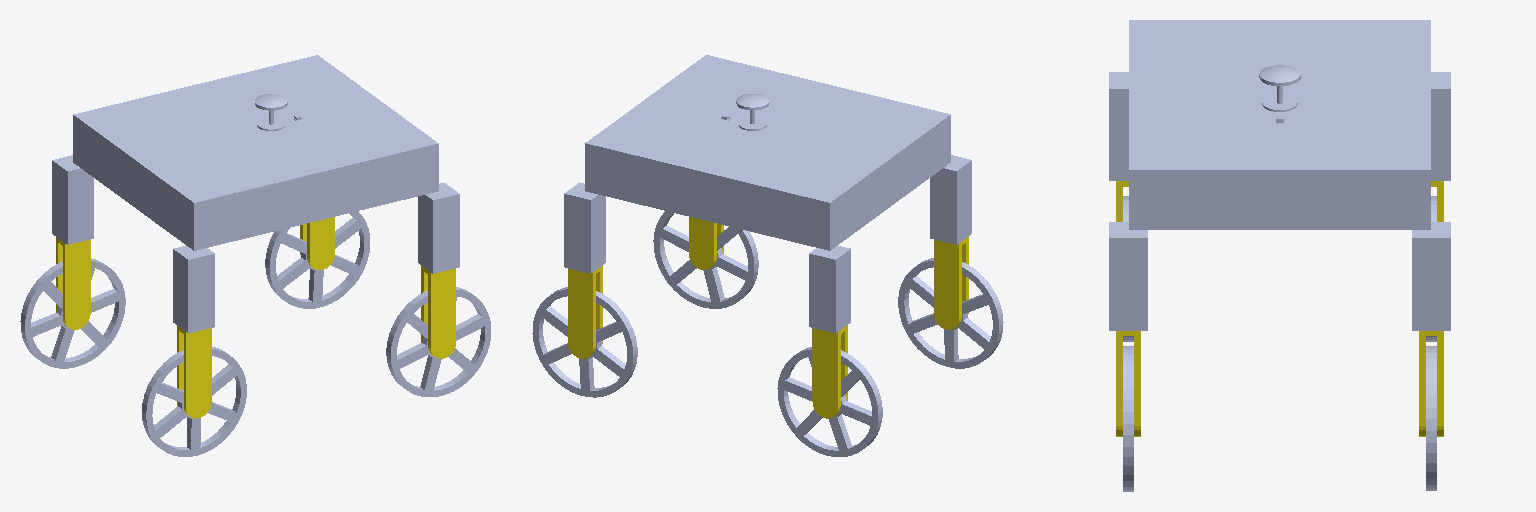
The robot description file, URDF, robot "4ws_car":
<?xml version="1.0" encoding="utf-8"?>
<!-- This URDF was automatically created by SolidWorks to URDF Exporter! Originally created by [author] ([email redacted]) 
     Commit Version: 1.5.1-0-g916b5db  Build Version: 1.5.7152.31018
     For more information, please see http://wiki.ros.org/sw_urdf_exporter -->
<robot
  name="4ws_car">
  <link
    name="base_link">
    <inertial>
      <origin
        xyz="0 -1.14491749414469E-16 1.39011762435083"
        rpy="0 0 0" />
      <mass
        value="713.808628330588" />
      <inertia
        ixx="142.749183568638"
        ixy="-2.3435707584632E-14"
        ixz="9.18848514806818E-16"
        iyy="189.782092071795"
        iyz="4.07823401388039E-15"
        izz="305.777739647351" />
    </inertial>
    <visual>
      <origin
        xyz="0 0 0"
        rpy="0 0 0" />
      <geometry>
        <mesh
          filename="package://4ws_car/meshes/base_link.STL" />
      </geometry>
      <material
        name="">
        <color
          rgba="0.792156862745098 0.819607843137255 0.933333333333333 1" />
      </material>
    </visual>
    <collision>
      <origin
        xyz="0 0 0"
        rpy="0 0 0" />
      <geometry>
        <mesh
          filename="package://4ws_car/meshes/base_link.STL" />
      </geometry>
    </collision>
  </link>
  <link
    name="Servo1_Link">
    <inertial>
      <origin
        xyz="-9.4226089708549E-08 -7.7289110667067E-09 -0.261240451567178"
        rpy="0 0 0" />
      <mass
        value="5.76104203269671" />
      <inertia
        ixx="0.165423317373878"
        ixy="-0.000290653748056503"
        ixz="2.05751618583053E-08"
        iyy="0.168942946694181"
        iyz="1.6876811328859E-09"
        izz="0.0219170046809726" />
    </inertial>
    <visual>
      <origin
        xyz="0 0 0"
        rpy="0 0 0" />
      <geometry>
        <mesh
          filename="package://4ws_car/meshes/Servo1_Link.STL" />
      </geometry>
      <material
        name="">
        <color
          rgba="1 0.937254901960784 0.137254901960784 1" />
      </material>
    </visual>
    <collision>
      <origin
        xyz="0 0 0"
        rpy="0 0 0" />
      <geometry>
        <mesh
          filename="package://4ws_car/meshes/Servo1_Link.STL" />
      </geometry>
    </collision>
  </link>
  <joint
    name="Servo1_Joint"
    type="revolute">
    <origin
      xyz="-0.8 -0.685 0.81"
      rpy="0 0 0" />
    <parent
      link="base_link" />
    <child
      link="Servo1_Link" />
    <axis
      xyz="0 0 1" />
    <limit
      lower="-1.57"
      upper="1.57"
      effort="0"
      velocity="0" />
  </joint>
  <link
    name="Wheel1_Link">
    <inertial>
      <origin
        xyz="-0.00204376541036855 0.0249163204134835 3.33066907387547E-16"
        rpy="0 0 0" />
      <mass
        value="8.92241380394137" />
      <inertia
        ixx="0.268708994377447"
        ixy="-0.0214473570079771"
        ixz="9.39147780268202E-17"
        iyy="0.528422647041607"
        iyz="-1.07533479631894E-17"
        izz="0.266949771279124" />
    </inertial>
    <visual>
      <origin
        xyz="0 0 0"
        rpy="0 0 0" />
      <geometry>
        <mesh
          filename="package://4ws_car/meshes/Wheel1_Link.STL" />
      </geometry>
      <material
        name="">
        <color
          rgba="0.792156862745098 0.819607843137255 0.933333333333333 1" />
      </material>
    </visual>
    <collision>
      <origin
        xyz="0 0 0"
        rpy="0 0 0" />
      <geometry>
        <mesh
          filename="package://4ws_car/meshes/Wheel1_Link.STL" />
      </geometry>
    </collision>
  </link>
  <joint
    name="Wheel1_Joint"
    type="continuous">
    <origin
      xyz="0.0020437 -0.024916 -0.48"
      rpy="0 0 0" />
    <parent
      link="Servo1_Link" />
    <child
      link="Wheel1_Link" />
    <axis
      xyz="0.081751 -0.99665 0" />
    <limit
      lower="-1.57"
      upper="1.57"
      effort="0"
      velocity="0" />
  </joint>
  <link
    name="Servo2_Link">
    <inertial>
      <origin
        xyz="-9.44418971915439E-08 -4.36120239921678E-09 -0.261240451567178"
        rpy="0 0 0" />
      <mass
        value="5.76104203269672" />
      <inertia
        ixx="0.16540706745021"
        ixy="-0.00016438319087837"
        ixz="2.06222855137653E-08"
        iyy="0.16895919661785"
        iyz="9.52309988531046E-10"
        izz="0.0219170046809726" />
    </inertial>
    <visual>
      <origin
        xyz="0 0 0"
        rpy="0 0 0" />
      <geometry>
        <mesh
          filename="package://4ws_car/meshes/Servo2_Link.STL" />
      </geometry>
      <material
        name="">
        <color
          rgba="1 0.937254901960784 0.137254901960784 1" />
      </material>
    </visual>
    <collision>
      <origin
        xyz="0 0 0"
        rpy="0 0 0" />
      <geometry>
        <mesh
          filename="package://4ws_car/meshes/Servo2_Link.STL" />
      </geometry>
    </collision>
  </link>
  <joint
    name="Servo2_Joint"
    type="revolute">
    <origin
      xyz="0.8 -0.685 0.81"
      rpy="0 0 0" />
    <parent
      link="base_link" />
    <child
      link="Servo2_Link" />
    <axis
      xyz="0 0 1" />
    <limit
      lower="-1.57"
      upper="1.57"
      effort="0"
      velocity="0" />
  </joint>
  <link
    name="Wheel2_Link">
    <inertial>
      <origin
        xyz="-0.00115323811859469 0.0249733866714513 0"
        rpy="0 0 0" />
      <mass
        value="8.92241380394136" />
      <inertia
        ixx="0.267509911562919"
        ixy="-0.0121298452349342"
        ixz="2.15366809792555E-15"
        iyy="0.529621729856135"
        iyz="1.00201959716932E-16"
        izz="0.266949771279123" />
    </inertial>
    <visual>
      <origin
        xyz="0 0 0"
        rpy="0 0 0" />
      <geometry>
        <mesh
          filename="package://4ws_car/meshes/Wheel2_Link.STL" />
      </geometry>
      <material
        name="">
        <color
          rgba="0.792156862745098 0.819607843137255 0.933333333333333 1" />
      </material>
    </visual>
    <collision>
      <origin
        xyz="0 0 0"
        rpy="0 0 0" />
      <geometry>
        <mesh
          filename="package://4ws_car/meshes/Wheel2_Link.STL" />
      </geometry>
    </collision>
  </link>
  <joint
    name="Wheel2_Joint"
    type="continuous">
    <origin
      xyz="0.0011532 -0.024973 -0.48"
      rpy="0 0 0" />
    <parent
      link="Servo2_Link" />
    <child
      link="Wheel2_Link" />
    <axis
      xyz="0.04613 -0.99894 0" />
    <limit
      lower="-1.57"
      upper="1.57"
      effort="0"
      velocity="0" />
  </joint>
  <link
    name="Servo3_Link">
    <inertial>
      <origin
        xyz="9.45311227074086E-08 1.46932244149411E-09 -0.261240451567178"
        rpy="0 0 0" />
      <mass
        value="5.76104203269671" />
      <inertia
        ixx="0.165400338080617"
        ixy="-5.54342765612992E-05"
        ixz="-2.06417686871506E-08"
        iyy="0.168965925987443"
        iyz="-3.20840534548852E-10"
        izz="0.0219170046809726" />
    </inertial>
    <visual>
      <origin
        xyz="0 0 0"
        rpy="0 0 0" />
      <geometry>
        <mesh
          filename="package://4ws_car/meshes/Servo3_Link.STL" />
      </geometry>
      <material
        name="">
        <color
          rgba="1 0.937254901960784 0.137254901960784 1" />
      </material>
    </visual>
    <collision>
      <origin
        xyz="0 0 0"
        rpy="0 0 0" />
      <geometry>
        <mesh
          filename="package://4ws_car/meshes/Servo3_Link.STL" />
      </geometry>
    </collision>
  </link>
  <joint
    name="Servo3_Joint"
    type="revolute">
    <origin
      xyz="-0.8 0.685 0.81"
      rpy="0 0 0" />
    <parent
      link="base_link" />
    <child
      link="Servo3_Link" />
    <axis
      xyz="0 0 1" />
    <limit
      lower="-1.57"
      upper="1.57"
      effort="0"
      velocity="0" />
  </joint>
  <link
    name="Wheel3_Link">
    <inertial>
      <origin
        xyz="0.00038853473836864 -0.02499698063281 1.11022302462516E-16"
        rpy="0 0 0" />
      <mass
        value="8.92241380394138" />
      <inertia
        ixx="0.267013350988489"
        ixy="-0.00409049849808934"
        ixz="8.3696781356075E-16"
        iyy="0.530118290430566"
        iyz="3.65243667424319E-17"
        izz="0.266949771279124" />
    </inertial>
    <visual>
      <origin
        xyz="0 0 0"
        rpy="0 0 0" />
      <geometry>
        <mesh
          filename="package://4ws_car/meshes/Wheel3_Link.STL" />
      </geometry>
      <material
        name="">
        <color
          rgba="0.792156862745098 0.819607843137255 0.933333333333333 1" />
      </material>
    </visual>
    <collision>
      <origin
        xyz="0 0 0"
        rpy="0 0 0" />
      <geometry>
        <mesh
          filename="package://4ws_car/meshes/Wheel3_Link.STL" />
      </geometry>
    </collision>
  </link>
  <joint
    name="Wheel3_Joint"
    type="continuous">
    <origin
      xyz="-0.00038845 0.024997 -0.48"
      rpy="0 0 0" />
    <parent
      link="Servo3_Link" />
    <child
      link="Wheel3_Link" />
    <axis
      xyz="-0.015541 0.99988 0" />
    <limit
      lower="-1.57"
      upper="1.57"
      effort="0"
      velocity="0" />
  </joint>
  <link
    name="Servo4_Link">
    <inertial>
      <origin
        xyz="9.4505024805791E-08 2.66314448271743E-09 -0.261240451567178"
        rpy="0 0 0" />
      <mass
        value="5.76104203269671" />
      <inertia
        ixx="0.165402307033939"
        ixy="-0.000100446793851732"
        ixz="-2.06360700034926E-08"
        iyy="0.168963957034121"
        iyz="-5.8152290789985E-10"
        izz="0.0219170046809726" />
    </inertial>
    <visual>
      <origin
        xyz="0 0 0"
        rpy="0 0 0" />
      <geometry>
        <mesh
          filename="package://4ws_car/meshes/Servo4_Link.STL" />
      </geometry>
      <material
        name="">
        <color
          rgba="1 0.937254901960784 0.137254901960784 1" />
      </material>
    </visual>
    <collision>
      <origin
        xyz="0 0 0"
        rpy="0 0 0" />
      <geometry>
        <mesh
          filename="package://4ws_car/meshes/Servo4_Link.STL" />
      </geometry>
    </collision>
  </link>
  <joint
    name="Servo4_Joint"
    type="revolute">
    <origin
      xyz="0.8 0.685 0.81"
      rpy="0 0 0" />
    <parent
      link="base_link" />
    <child
      link="Servo4_Link" />
    <axis
      xyz="0 0 1" />
    <limit
      lower="-1.57"
      upper="1.57"
      effort="0"
      velocity="0" />
  </joint>
  <link
    name="Wheel4_Link">
    <inertial>
      <origin
        xyz="-0.000704218556082159 0.0249900795562014 -3.33066907387547E-16"
        rpy="0 0 0" />
      <mass
        value="8.92241380394138" />
      <inertia
        ixx="0.26715864016888"
        ixy="-0.00741197477221588"
        ixz="-9.23580406576071E-16"
        iyy="0.52997300125018"
        iyz="-3.47468279843719E-18"
        izz="0.26694977127912" />
    </inertial>
    <visual>
      <origin
        xyz="0 0 0"
        rpy="0 0 0" />
      <geometry>
        <mesh
          filename="package://4ws_car/meshes/Wheel4_Link.STL" />
      </geometry>
      <material
        name="">
        <color
          rgba="0.792156862745098 0.819607843137255 0.933333333333333 1" />
      </material>
    </visual>
    <collision>
      <origin
        xyz="0 0 0"
        rpy="0 0 0" />
      <geometry>
        <mesh
          filename="package://4ws_car/meshes/Wheel4_Link.STL" />
      </geometry>
    </collision>
  </link>
  <joint
    name="Wheel4_Joint"
    type="continuous">
    <origin
      xyz="0.0007043 -0.02499 -0.48"
      rpy="0 0 0" />
    <parent
      link="Servo4_Link" />
    <child
      link="Wheel4_Link" />
    <axis
      xyz="-0.028169 0.9996 0" />
    <limit
      effort="0"
      velocity="0" />
  </joint>
  <link
    name="GPS_Link">
    <inertial>
      <origin
        xyz="-1.38777878078145E-17 -4.33680868994202E-18 0.116570026776398"
        rpy="0 0 0" />
      <mass
        value="1.33905058617666" />
      <inertia
        ixx="0.00575508466631021"
        ixy="-1.98433233899372E-20"
        ixz="-5.99550861340591E-19"
        iyy="0.00575508466631021"
        iyz="-1.8945290434225E-19"
        izz="0.00440925833255496" />
    </inertial>
    <visual>
      <origin
        xyz="0 0 0"
        rpy="0 0 0" />
      <geometry>
        <mesh
          filename="package://4ws_car/meshes/GPS_Link.STL" />
      </geometry>
      <material
        name="">
        <color
          rgba="0.792156862745098 0.819607843137255 0.933333333333333 1" />
      </material>
    </visual>
    <collision>
      <origin
        xyz="0 0 0"
        rpy="0 0 0" />
      <geometry>
        <mesh
          filename="package://4ws_car/meshes/GPS_Link.STL" />
      </geometry>
    </collision>
  </link>
  <joint
    name="GPS_Joint"
    type="fixed">
    <origin
      xyz="0.1 0 1.57"
      rpy="0 0 0" />
    <parent
      link="base_link" />
    <child
      link="GPS_Link" />
    <axis
      xyz="0 0 0" />
  </joint>
  <link
    name="IMU_Link">
    <inertial>
      <origin
        xyz="0 8.67361737988404E-19 0.007773242603065"
        rpy="0 0 0" />
      <mass
        value="0.0242226636759993" />
      <inertia
        ixx="3.20239146668551E-06"
        ixy="4.71751443096649E-22"
        ixz="2.94712986740203E-22"
        iyy="4.12982553624142E-06"
        iyz="-3.1026816834536E-22"
        izz="6.10892771029758E-06" />
    </inertial>
    <visual>
      <origin
        xyz="0 0 0"
        rpy="0 0 0" />
      <geometry>
        <mesh
          filename="package://4ws_car/meshes/IMU_Link.STL" />
      </geometry>
      <material
        name="">
        <color
          rgba="0.792156862745098 0.819607843137255 0.933333333333333 1" />
      </material>
    </visual>
    <collision>
      <origin
        xyz="0 0 0"
        rpy="0 0 0" />
      <geometry>
        <mesh
          filename="package://4ws_car/meshes/IMU_Link.STL" />
      </geometry>
    </collision>
  </link>
  <joint
    name="IMU_Joint"
    type="fixed">
    <origin
      xyz="0.27435 0 1.57"
      rpy="0 0 0" />
    <parent
      link="base_link" />
    <child
      link="IMU_Link" />
    <axis
      xyz="0 0 0" />
  </joint>
</robot>

--- Facts derived from the render (not from the file) ---
Views: 3 orthographic renders of the robot side by side, from view 1: azimuth 30°, elevation 25°; view 2: azimuth 150°, elevation 25°; view 3: azimuth 270°, elevation 25°.
Robot: 4ws_car — 11 links, 10 joints (4 revolute, 4 continuous, 2 fixed); root link base_link; default pose: every joint at zero.
Visible links, largest first — view 1: base_link, Wheel1_Link, Wheel3_Link, Wheel2_Link, Wheel4_Link, Servo1_Link, Servo2_Link, Servo3_Link, Servo4_Link, GPS_Link; view 2: base_link, Wheel1_Link, Wheel4_Link, Wheel3_Link, Wheel2_Link, Servo3_Link, Servo1_Link, Servo4_Link, Servo2_Link, GPS_Link; view 3: base_link, Wheel2_Link, Wheel4_Link, Servo2_Link, Servo4_Link, GPS_Link.
Boxes of the visible links, left/top/right/bottom form: base_link: left=52, top=55, right=459, bottom=333; Wheel1_Link: left=142, top=347, right=246, bottom=456; Wheel3_Link: left=20, top=258, right=125, bottom=368; Wheel2_Link: left=386, top=287, right=490, bottom=396; Wheel4_Link: left=265, top=211, right=369, bottom=308; Servo1_Link: left=177, top=326, right=211, bottom=418; Servo2_Link: left=421, top=265, right=455, bottom=358; Servo3_Link: left=56, top=237, right=90, bottom=329; Servo4_Link: left=300, top=217, right=334, bottom=269; GPS_Link: left=255, top=94, right=287, bottom=130; base_link: left=564, top=55, right=971, bottom=333; Wheel1_Link: left=898, top=258, right=1003, bottom=368; Wheel4_Link: left=532, top=287, right=637, bottom=397; Wheel3_Link: left=777, top=347, right=882, bottom=456; Wheel2_Link: left=653, top=211, right=758, bottom=308; Servo3_Link: left=812, top=325, right=847, bottom=418; Servo1_Link: left=934, top=236, right=968, bottom=329; Servo4_Link: left=568, top=265, right=602, bottom=358; Servo2_Link: left=689, top=217, right=723, bottom=269; GPS_Link: left=736, top=94, right=768, bottom=130; base_link: left=1109, top=20, right=1450, bottom=330; Wheel2_Link: left=1123, top=346, right=1133, bottom=491; Wheel4_Link: left=1426, top=346, right=1436, bottom=490; Servo2_Link: left=1116, top=331, right=1140, bottom=436; Servo4_Link: left=1419, top=331, right=1443, bottom=436; GPS_Link: left=1259, top=65, right=1300, bottom=111.
Size in the robot's own frame: 2.26 by 1.54 by 1.74 metres.
Meshes: 11 distinct files referenced, 11 mesh visuals loaded (11 binary STL).